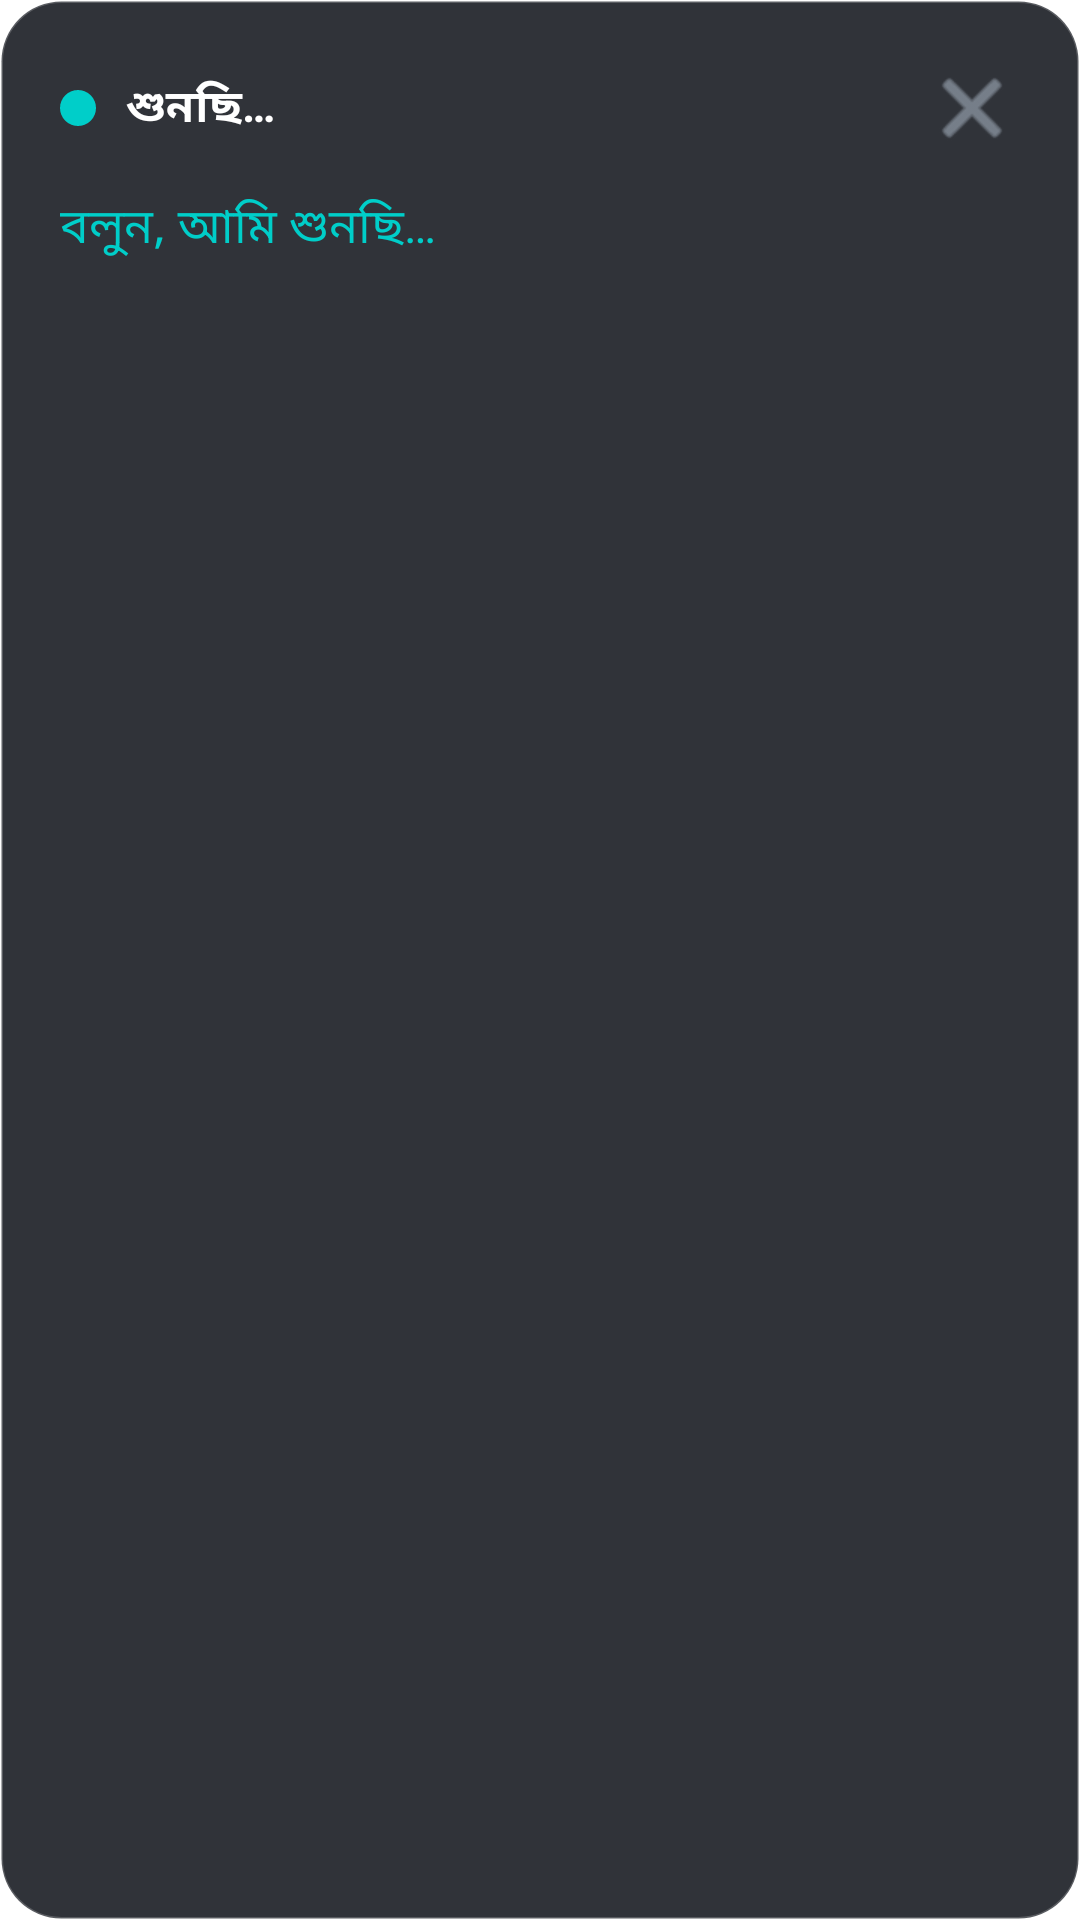

Icon bounding boxes for this 1080w x 1920h phone screenshot, format (x1, y1, x2, y2):
close clear cancel: (942, 78, 1002, 138)
dot: (60, 90, 96, 126)
